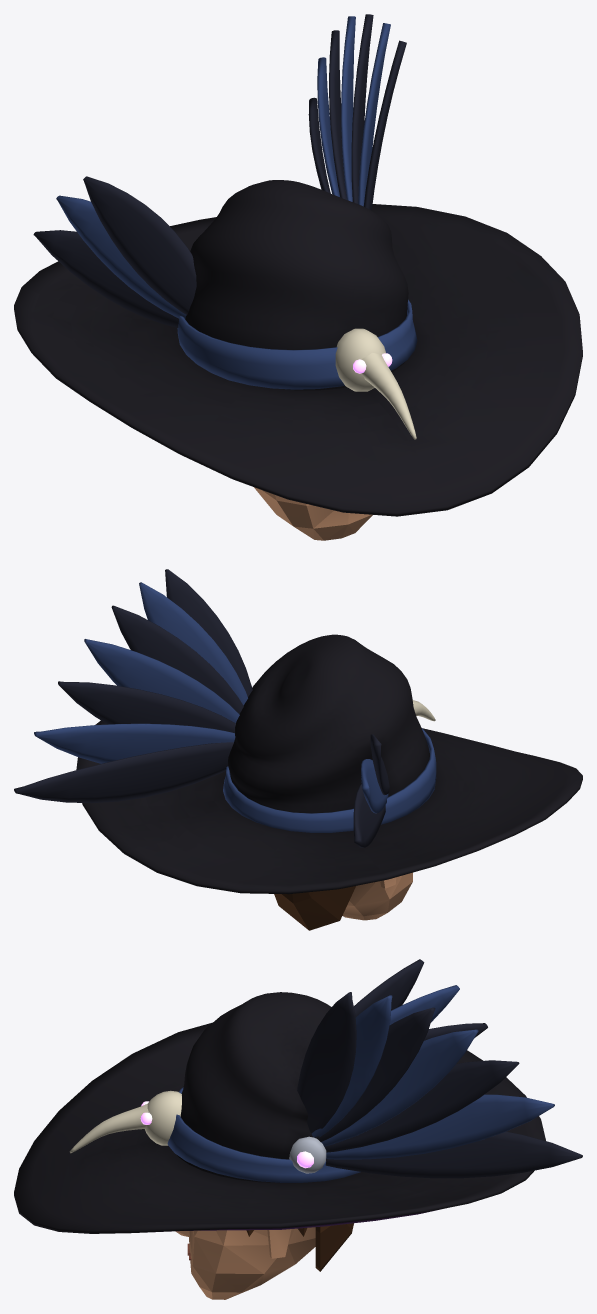
The model's file is h_raven.glb.
3 renders of one model, top to bottom at view 1: azimuth 30°, elevation 25°; view 2: azimuth 150°, elevation 25°; view 3: azimuth 270°, elevation 25°, orthographic. The views are drawn at different scales.
Visible parts, largest first — view 1: RavenHat, HeadMesh; view 2: RavenHat, HairBaseBack, HeadMesh; view 3: RavenHat, HeadMesh, HairBaseBack, EarL.
Part boxes in pixels (left/top/right/bottom): RavenHat: left=14, top=14, right=582, bottom=516; HeadMesh: left=254, top=487, right=372, bottom=540; RavenHat: left=14, top=569, right=582, bottom=894; HairBaseBack: left=274, top=886, right=355, bottom=930; HeadMesh: left=342, top=872, right=412, bottom=920; RavenHat: left=14, top=959, right=582, bottom=1233; HeadMesh: left=189, top=1227, right=315, bottom=1299; HairBaseBack: left=315, top=1223, right=353, bottom=1271; EarL: left=267, top=1229, right=291, bottom=1258.
Bounding box in the file's own units: 0.62 × 0.4919 × 0.7056.
